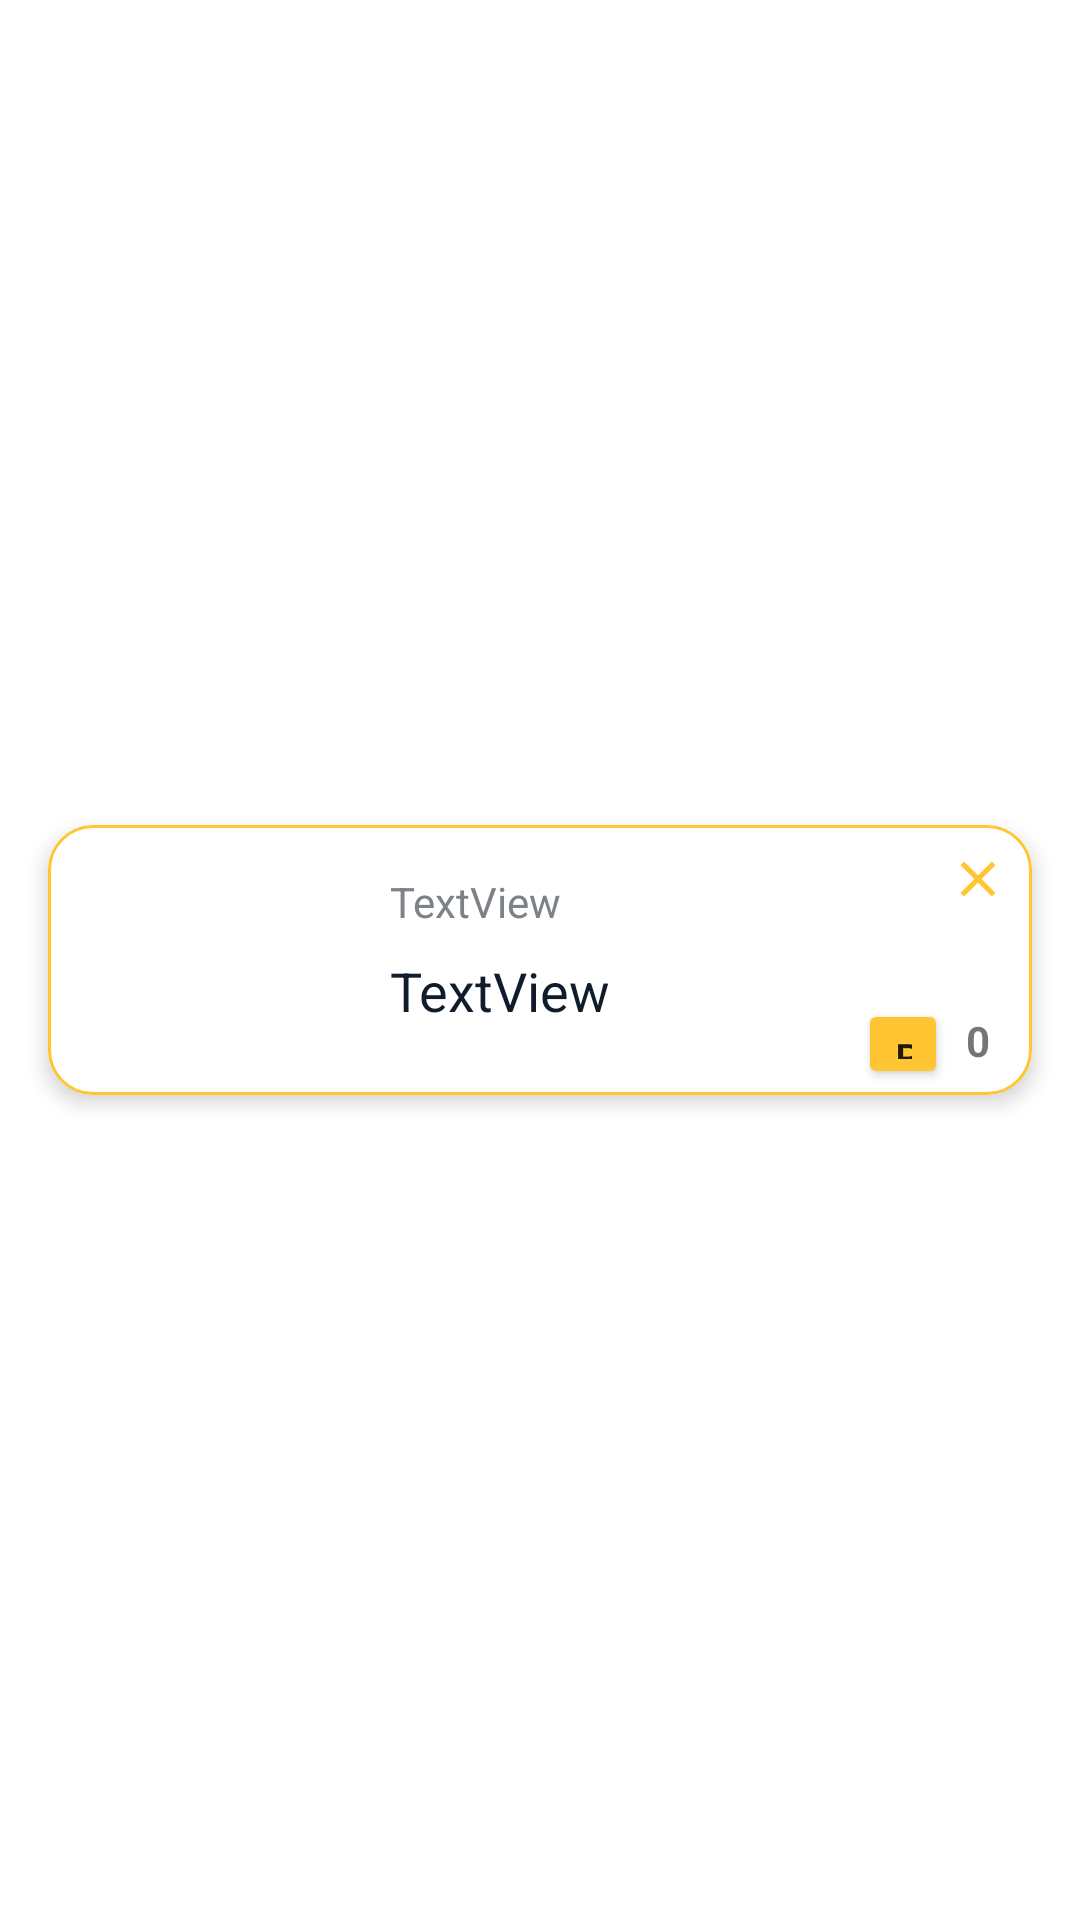

Where to tap for icons on this 1080x1920 app screen, as (x=x, y=y):
sil: (x=978, y=879)
